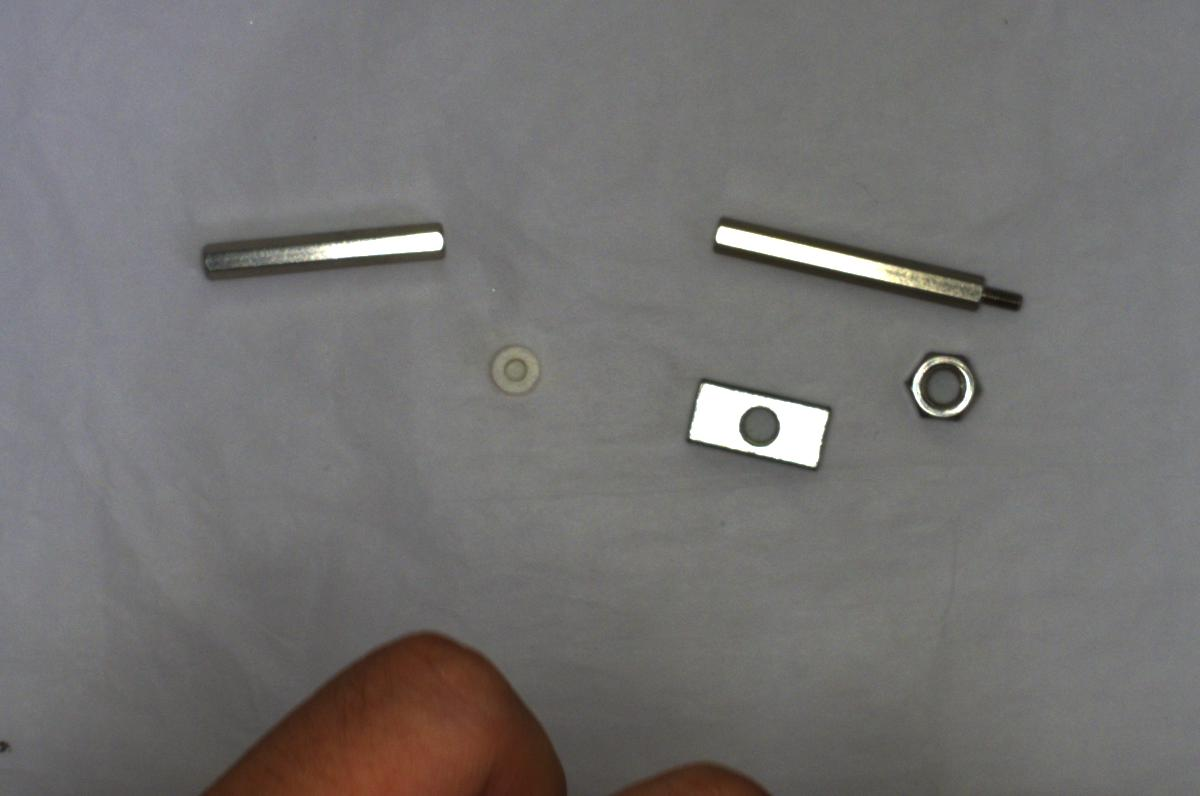Double hexagonal column: (193, 214, 447, 288)
Hexagon nut: (899, 345, 990, 429)
Hexagonal steel column: (707, 213, 1034, 323)
Plastic cushion pillar: (486, 336, 541, 399)
Rectangular nut: (675, 370, 834, 475)
